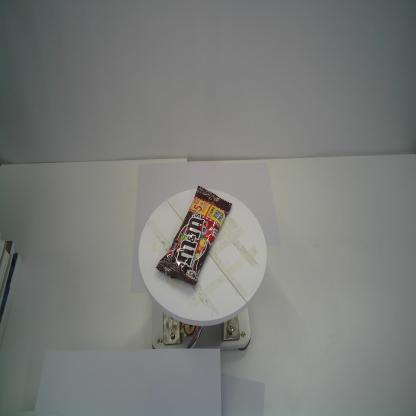Chocolate: (154, 184, 233, 286)
